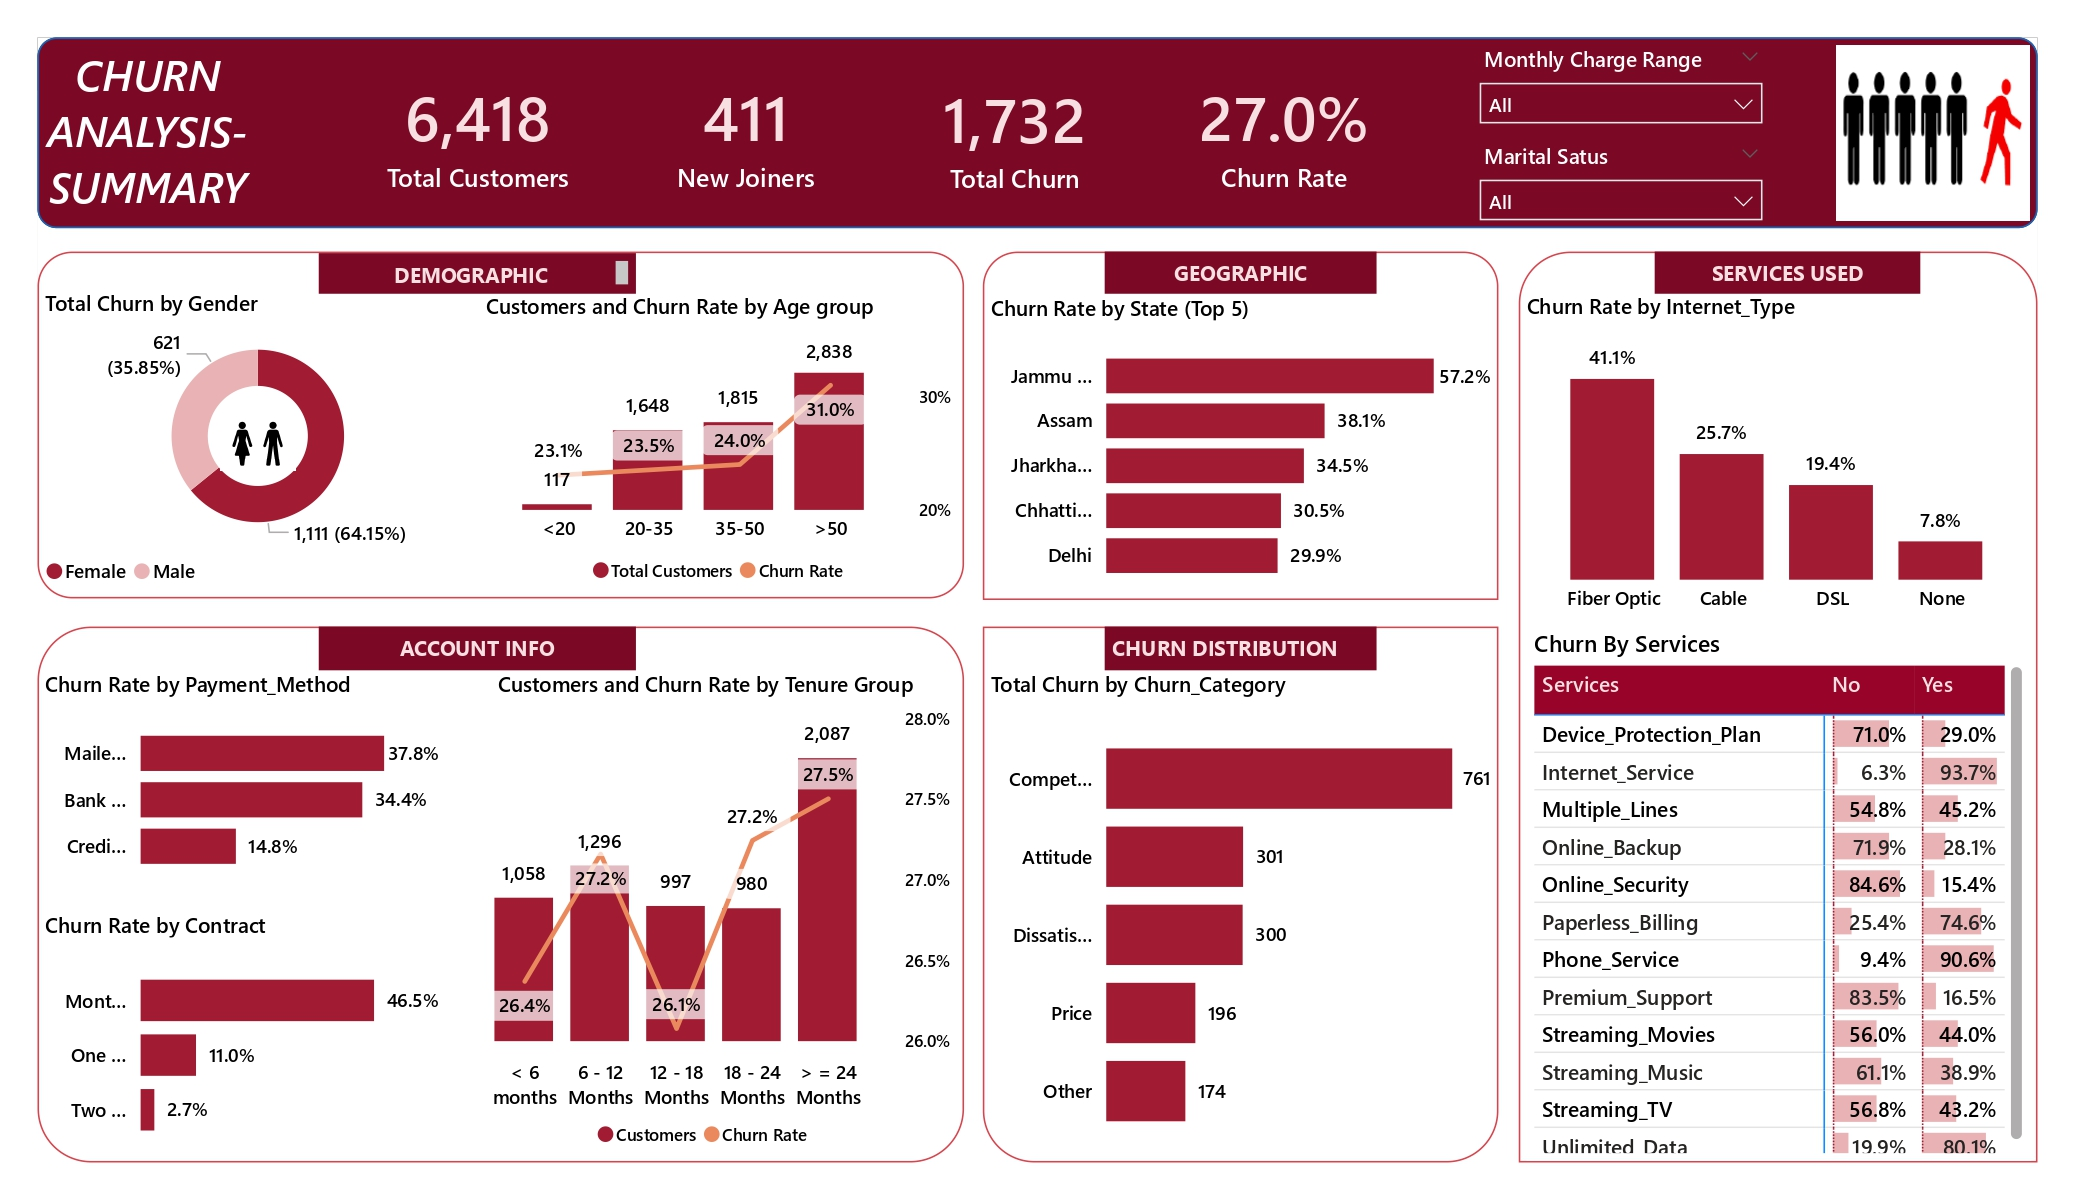

This screenshot's page, from the dashboard's own definition file:
{"tool":"powerbi","page":{"name":"Dashboard","canvas":[1280,720],"ordinal":0},"visuals":[{"type":"shape","box":[0,0,1280.2,122.4],"z":0},{"type":"shape","box":[0,136.8,593.3,221.8],"z":1000},{"type":"shape","box":[0,377.3,593.3,342.7],"z":2000},{"type":"shape","box":[947.5,136.8,332.6,583.2],"z":3000},{"type":"shape","box":[604.8,136.8,329.8,223.2],"z":4000},{"type":"shape","box":[604.8,377.3,329.8,342.7],"z":5000},{"type":"textbox","box":[682.6,136.8,174.2,27.4],"z":6000},{"type":"textbox","box":[682.6,377.3,174.2,27.4],"z":7000},{"type":"textbox","box":[1035.4,136.8,169.9,27.4],"z":8000},{"type":"textbox","box":[180,377.3,203,27.4],"z":9000},{"type":"donutChart","fields":{"Category":["prod_Churn.Gender"],"Y":["tbl_Measures.Total Churn"]},"box":[0,161.3,282.2,198.7],"z":10000},{"type":"card","fields":{"Values":["tbl_Measures.Total Customers"]},"box":[207.2,0,149.3,121.7],"z":11000},{"type":"card","fields":{"Values":["tbl_Measures.New Joiners"]},"box":[378.6,0,149.3,121.7],"z":12000},{"type":"card","fields":{"Values":["tbl_Measures.Total Churn"]},"box":[550,1.4,150.7,121.7],"z":13000},{"type":"card","fields":{"Values":["tbl_Measures.Churn Rate"]},"box":[722.9,0,149.8,122.4],"z":14000},{"type":"slicer","fields":{"Values":["Prod_services.Monthly Charge Status"]},"box":[913,0,201,62],"z":15000},{"type":"slicer","fields":{"Values":["Prod_services.Married"]},"box":[913,62,201,60],"z":16000},{"type":"image","box":[1146.2,0,133.9,122.4],"z":17000},{"type":"lineStackedColumnComboChart","title":"Customers and Churn Rate by Age group","fields":{"Category":["Mapping_AgeGrp.Age group"],"Y":["tbl_Measures.Total Customers"],"Y2":["tbl_Measures.Churn Rate"]},"box":[282.2,162.7,311,195.8],"z":18000},{"type":"clusteredBarChart","fields":{"Category":["prod_Churn.Payment_Method"],"Y":["tbl_Measures.Churn Rate"]},"box":[0,404.6,262.1,142.6],"z":19000},{"type":"clusteredBarChart","fields":{"Y":["tbl_Measures.Churn Rate"],"Category":["prod_Churn.Contract"]},"box":[0,558.7,262.1,161.3],"z":20000},{"type":"lineStackedColumnComboChart","fields":{"Category":["Mapping_TenuringGrp.Tenure Group"],"Y":["tbl_Measures.Total Customers"],"Y2":["tbl_Measures.Churn Rate"]},"box":[262.1,404.6,331.2,315.4],"z":21000},{"type":"clusteredBarChart","title":"Churn Rate by State (Top 5)","fields":{"Y":["tbl_Measures.Churn Rate"],"Category":["prod_Churn.State"]},"box":[604.8,164.2,329.8,195.8],"z":22000},{"type":"clusteredBarChart","fields":{"Y":["tbl_Measures.Total Churn"],"Category":["prod_Churn.Churn_Category"]},"box":[604.8,404.6,329.8,315.4],"z":23000},{"type":"clusteredColumnChart","fields":{"Category":["prod_Churn.Internet_Type"],"Y":["tbl_Measures.Churn Rate"]},"box":[947.5,162.7,332.6,214.6],"z":24000},{"type":"image","box":[112.3,234.7,57.6,50.4],"z":25000},{"type":"pivotTable","title":"Churn By Services","fields":{"Rows":["Prod_services.Services"],"Columns":["Prod_services.Status"],"Values":["Sum(Prod_services.Churn Status)"]},"box":[953.3,377.3,322.6,341.3],"z":26000},{"type":"textbox","box":[180,138.2,203,25.9],"z":27000},{"type":"textbox","box":[0,0,141,122],"z":28000}]}

Visuals, with their boxes in screenshot pixels (x1, y1, x2, y2):
shape: <bbox>38, 38, 2038, 229</bbox>
shape: <bbox>38, 251, 965, 598</bbox>
shape: <bbox>38, 627, 965, 1162</bbox>
shape: <bbox>1518, 251, 2038, 1162</bbox>
shape: <bbox>982, 251, 1498, 600</bbox>
shape: <bbox>982, 627, 1498, 1162</bbox>
textbox: <bbox>1104, 251, 1376, 294</bbox>
textbox: <bbox>1104, 627, 1376, 670</bbox>
textbox: <bbox>1655, 251, 1921, 294</bbox>
textbox: <bbox>319, 627, 636, 670</bbox>
donutChart - prod_Churn.Gender x tbl_Measures.Total Churn: <bbox>38, 290, 478, 600</bbox>
card - tbl_Measures.Total Customers: <bbox>361, 38, 595, 228</bbox>
card - tbl_Measures.New Joiners: <bbox>629, 38, 862, 228</bbox>
card - tbl_Measures.Total Churn: <bbox>897, 40, 1132, 230</bbox>
card - tbl_Measures.Churn Rate: <bbox>1167, 38, 1401, 229</bbox>
slicer - Prod_services.Monthly Charge Status: <bbox>1464, 38, 1778, 134</bbox>
slicer - Prod_services.Married: <bbox>1464, 134, 1778, 228</bbox>
image: <bbox>1828, 38, 2038, 229</bbox>
"Customers and Churn Rate by Age group" lineStackedColumnComboChart: <bbox>478, 292, 964, 598</bbox>
clusteredBarChart - prod_Churn.Payment_Method x tbl_Measures.Churn Rate: <bbox>38, 670, 447, 893</bbox>
clusteredBarChart - tbl_Measures.Churn Rate x prod_Churn.Contract: <bbox>38, 910, 447, 1162</bbox>
lineStackedColumnComboChart - Mapping_TenuringGrp.Tenure Group x tbl_Measures.Total Customers: <bbox>447, 670, 965, 1162</bbox>
"Churn Rate by State (Top 5)" clusteredBarChart: <bbox>982, 294, 1498, 600</bbox>
clusteredBarChart - tbl_Measures.Total Churn x prod_Churn.Churn_Category: <bbox>982, 670, 1498, 1162</bbox>
clusteredColumnChart - prod_Churn.Internet_Type x tbl_Measures.Churn Rate: <bbox>1518, 292, 2038, 627</bbox>
image: <bbox>213, 404, 303, 483</bbox>
"Churn By Services" pivotTable: <bbox>1527, 627, 2031, 1160</bbox>
textbox: <bbox>319, 253, 636, 294</bbox>
textbox: <bbox>38, 38, 258, 228</bbox>
